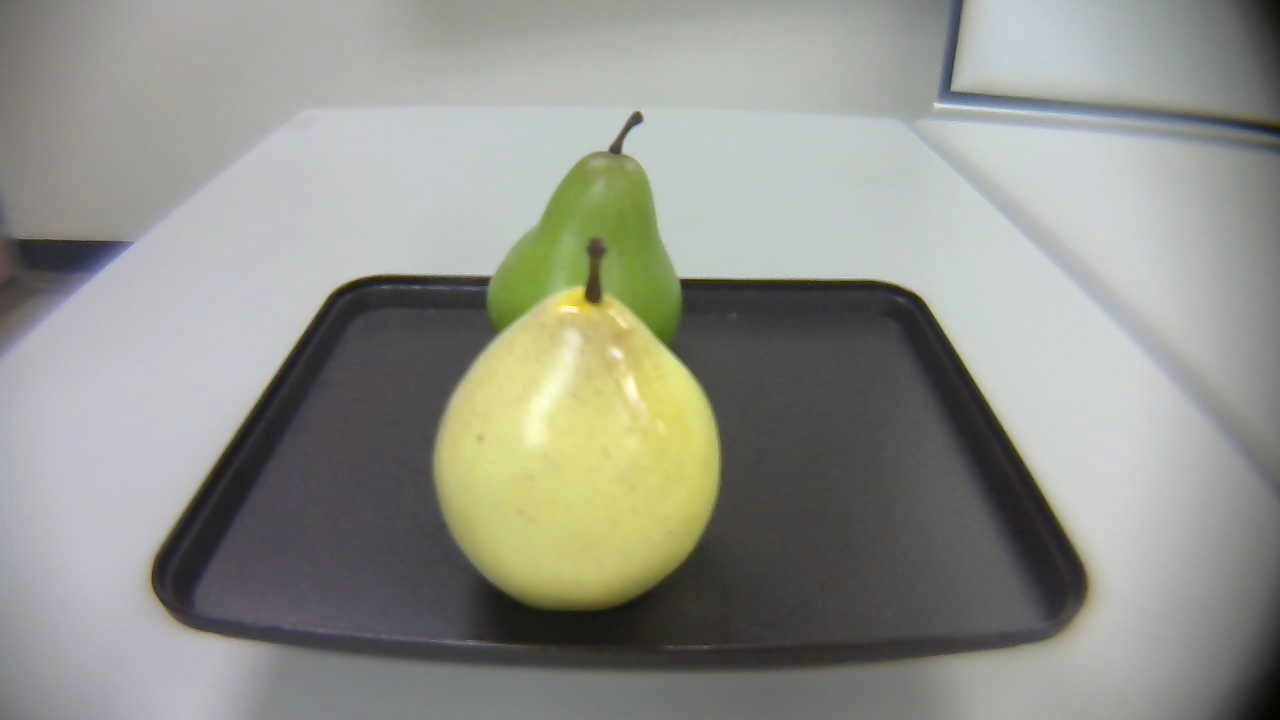green pear: (459, 109, 707, 368)
western pear: (418, 234, 728, 629)
